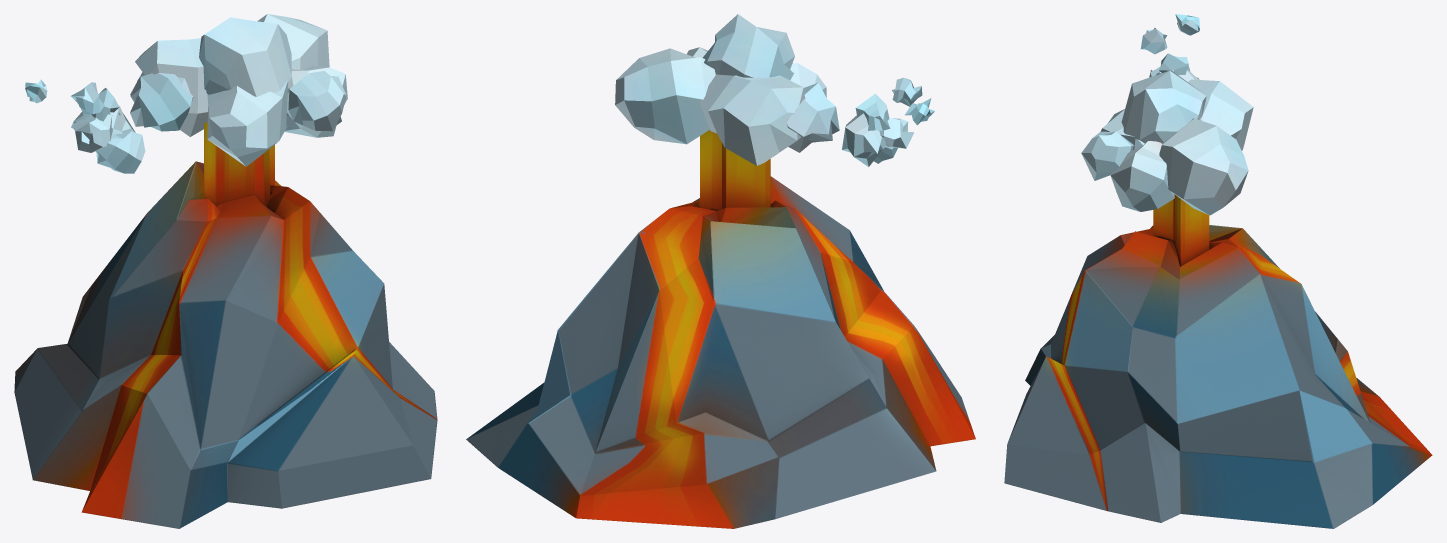
The model's file is Volcano.gltf.
3 views of the same model, side by side, from view 1: azimuth 30°, elevation 25°; view 2: azimuth 150°, elevation 25°; view 3: azimuth 270°, elevation 25° (orthographic). The views are drawn at different scales.
Parts seen in each view (by area): view 1: node-0; view 2: node-0; view 3: node-0.
Boxes of the visible parts, x1,y1,x2,y2 form: node-0: (14, 14, 437, 528); node-0: (466, 14, 975, 528); node-0: (1004, 14, 1432, 528).
Size of the model in its own units: 14.9 by 14.66 by 15.5.
Materials: 1 (1 with a texture image).
